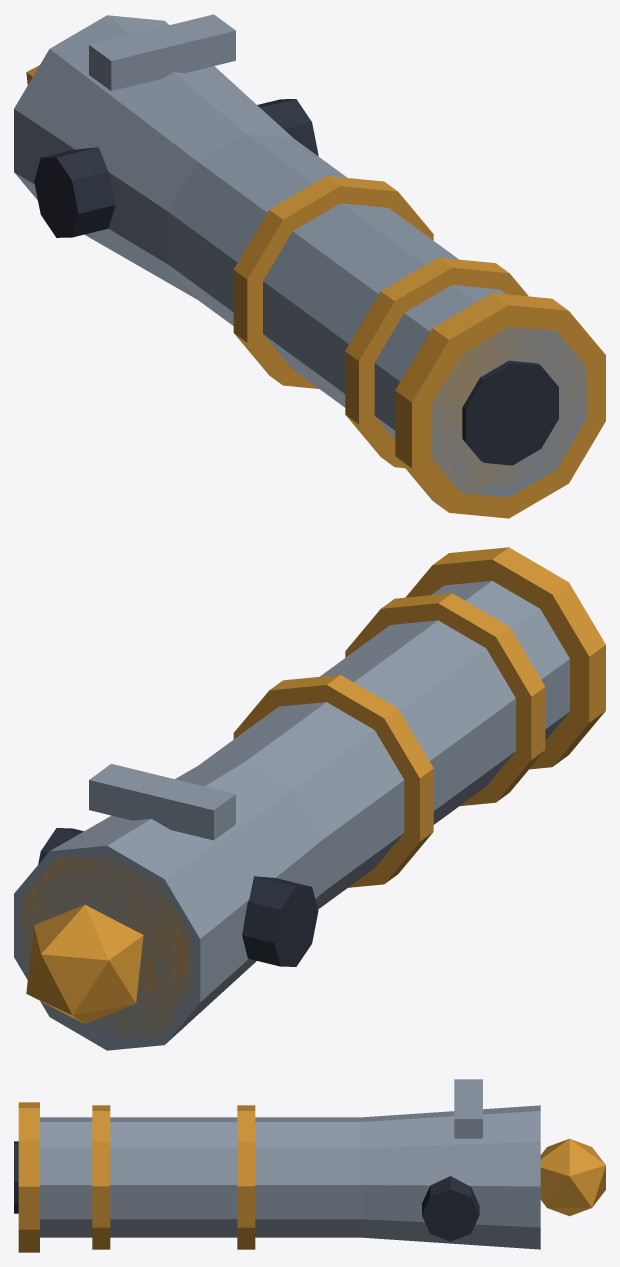
The model's file is CannonDefault.obj.
3 views of the same model, one above another, from view 1: azimuth 30°, elevation 25°; view 2: azimuth 150°, elevation 25°; view 3: azimuth 270°, elevation 25° (orthographic). The views are drawn at different scales.
Parts seen in each view (by area): view 1: CannonDefault; view 2: CannonDefault; view 3: CannonDefault.
Boxes of the visible parts, bbox=[...] form: CannonDefault: bbox=[14, 14, 605, 518]; CannonDefault: bbox=[14, 547, 605, 1050]; CannonDefault: bbox=[14, 1079, 605, 1252].
Bounding box in the file's own units: 0.5 × 0.4525 × 1.64.
